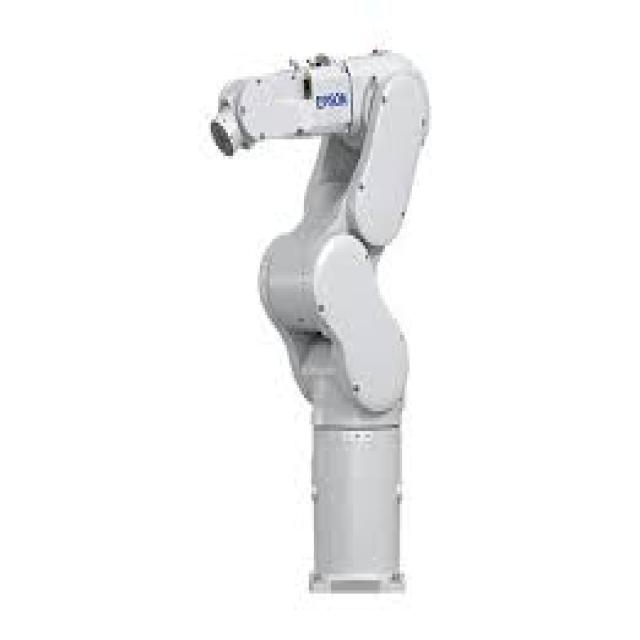Robotic-arm: (202, 39, 438, 602)
